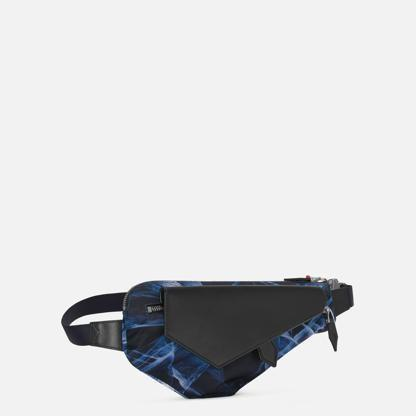not trash: (61, 276, 354, 397)
